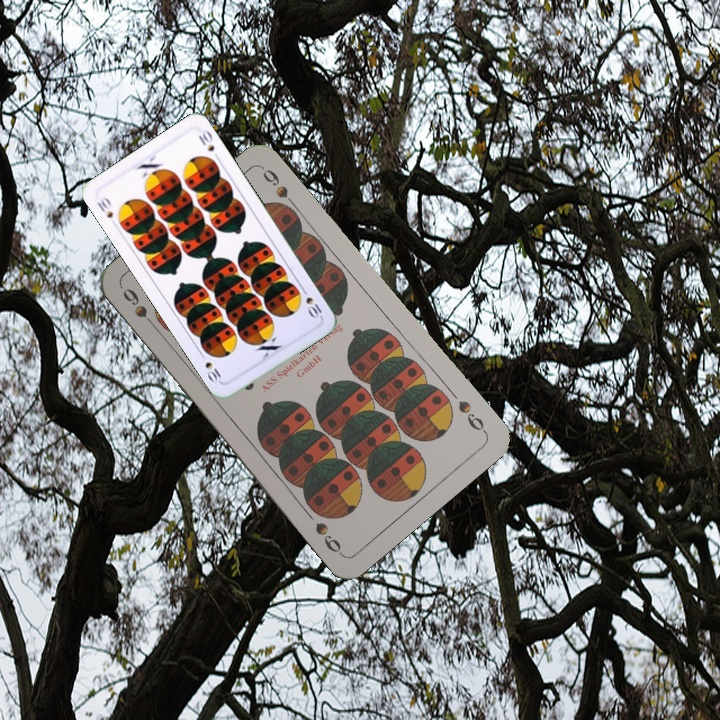S10: (298, 283, 325, 321), (93, 193, 116, 221)
S9: (118, 284, 161, 334), (454, 396, 490, 436)
